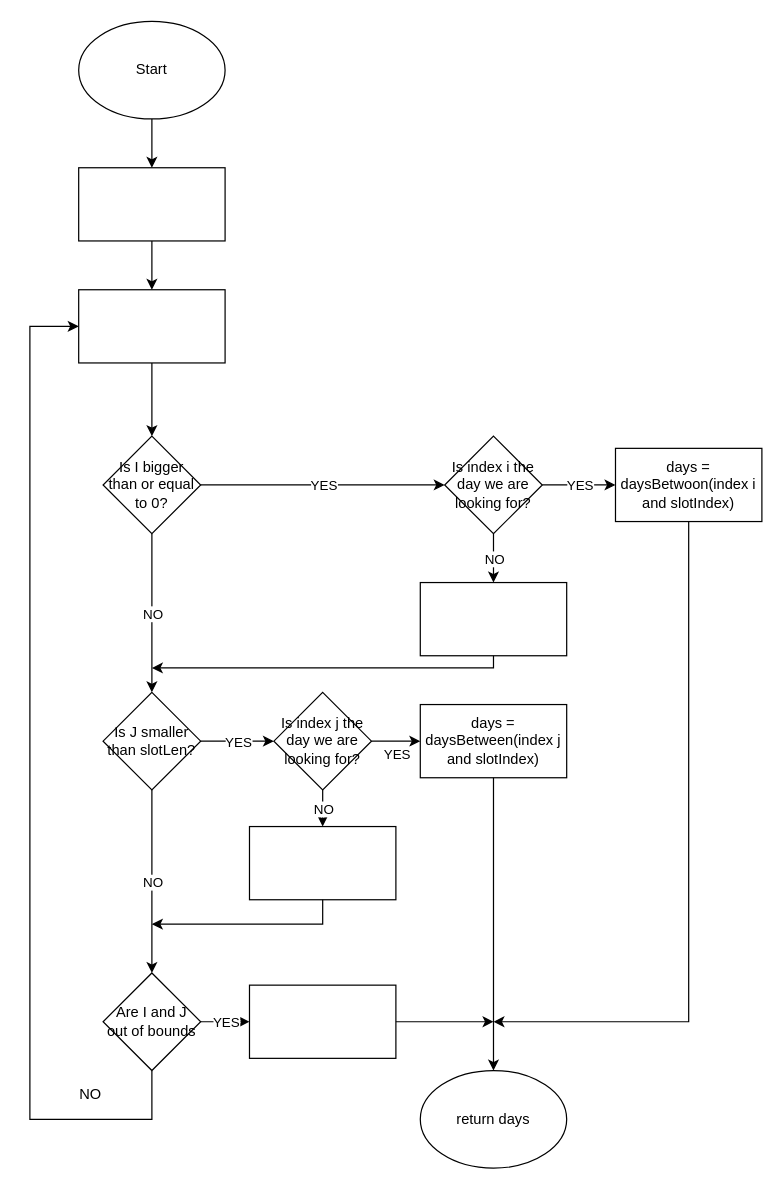
Some shapes in this 783 by 1190 pixel diagram are drawn without their labels. The box of each missing label's shape, as (x1, y1, x2, y2) in pixels:
days = -1: (248, 984, 396, 1058)
for (;;): (77, 289, 225, 363)
i--: (419, 581, 567, 656)
Initialize variables: (77, 167, 225, 241)
j++: (248, 825, 396, 900)
